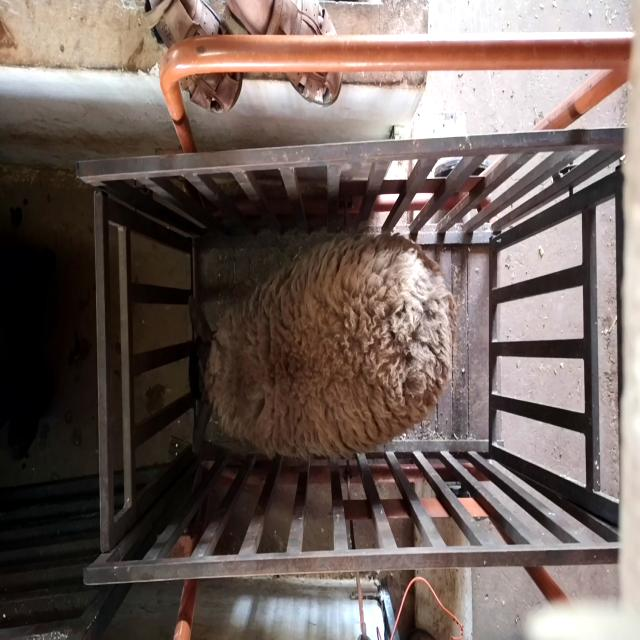sheep: (189, 233, 458, 460)
